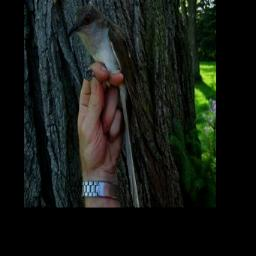Cuckoo: (65, 3, 146, 207)
